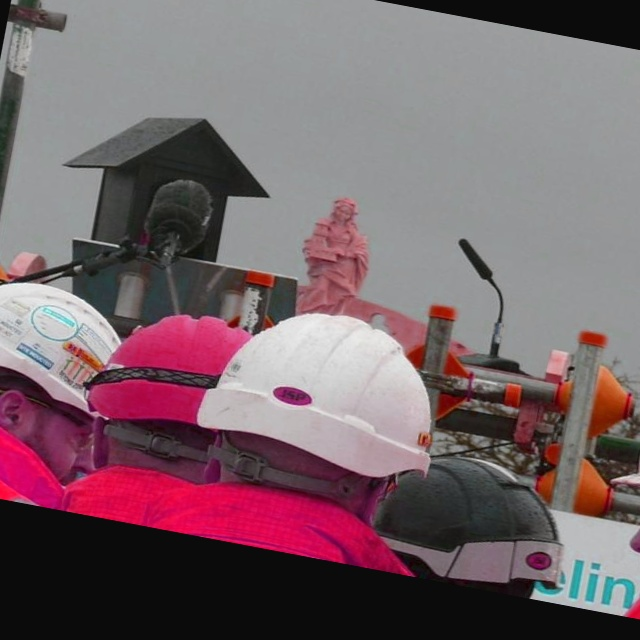Con_Casco: (207, 295, 454, 490), (91, 298, 263, 488), (0, 271, 127, 470)
